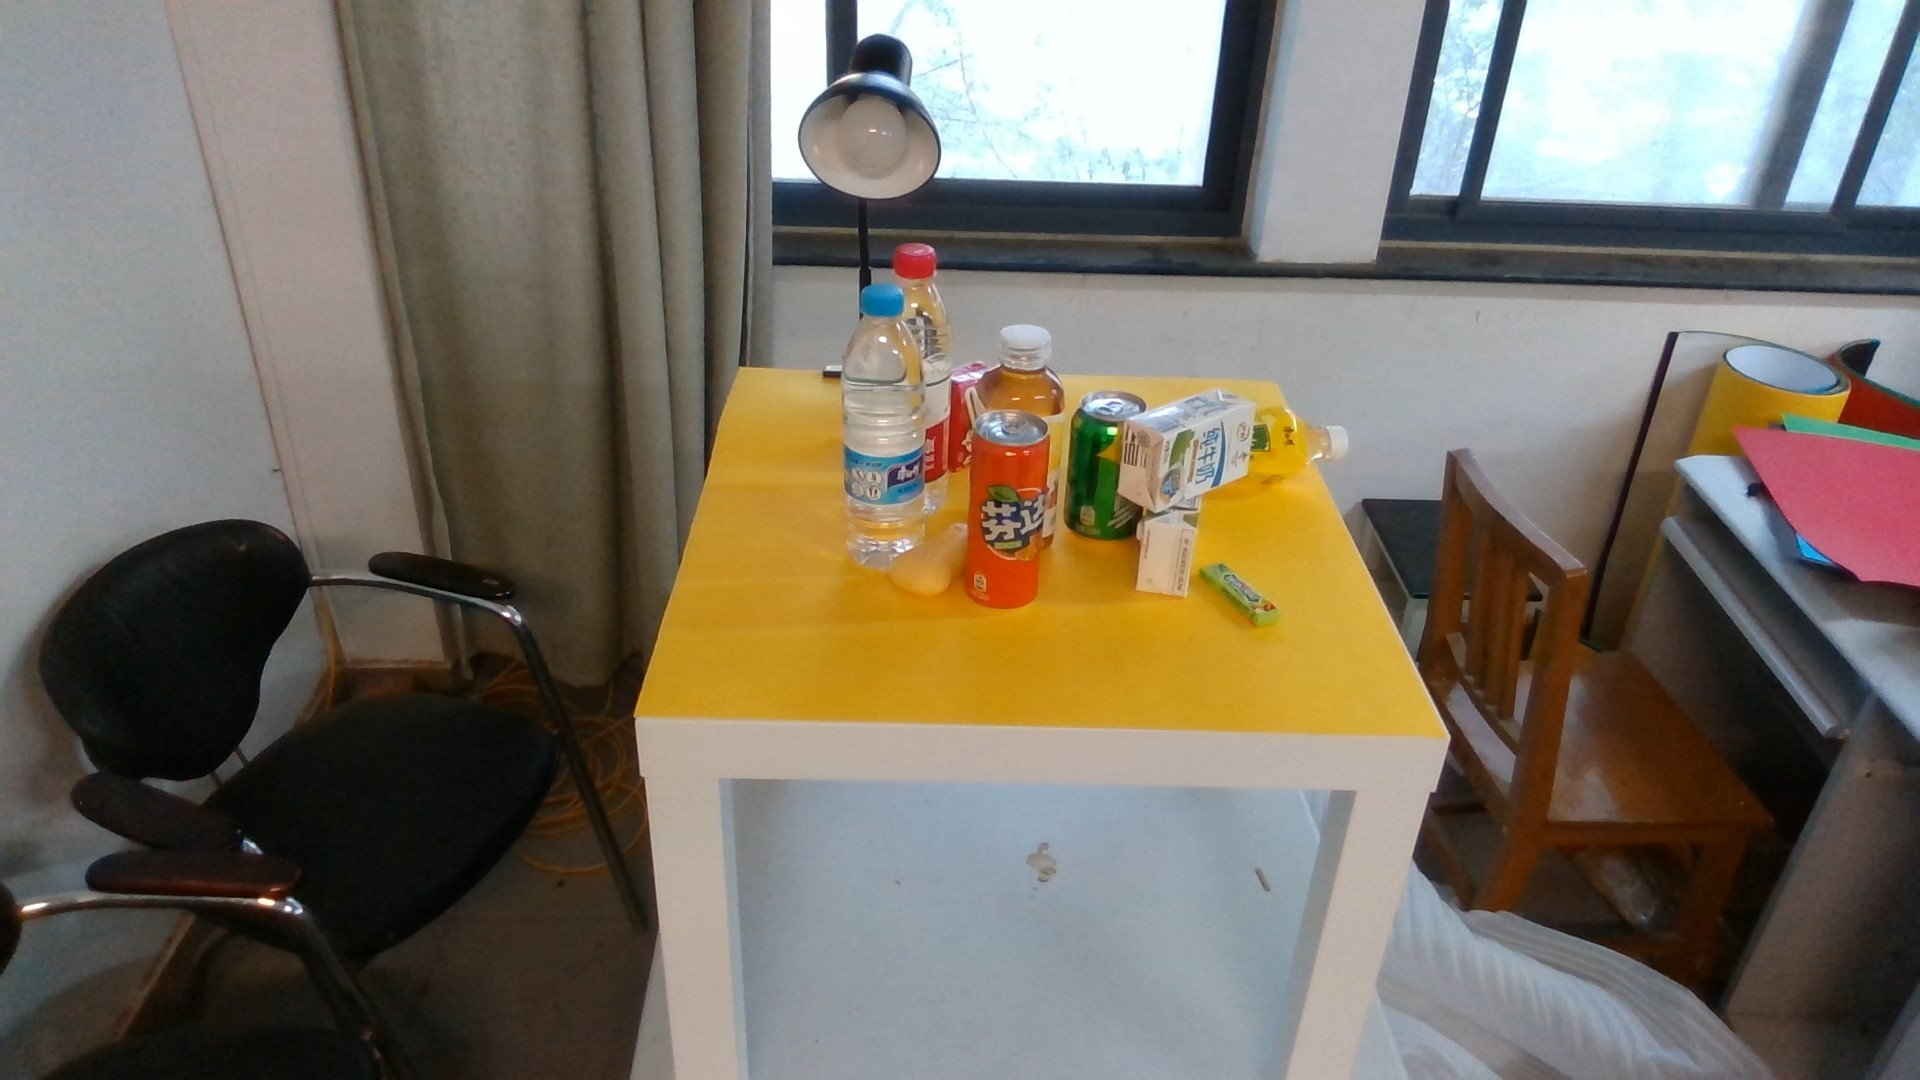BB002: (1204, 560, 1279, 628)
BB003: (893, 541, 971, 596)
BB009: (1135, 513, 1195, 600)
BB012: (947, 363, 973, 467)
BB013: (1120, 388, 1251, 510)
ZC001: (1069, 388, 1118, 537)
ZC003: (971, 411, 1050, 607)
ZC011: (1257, 404, 1348, 483)
ZC012: (982, 323, 1065, 410)
ZC014: (924, 241, 951, 498)
ZC019: (843, 281, 923, 539)
